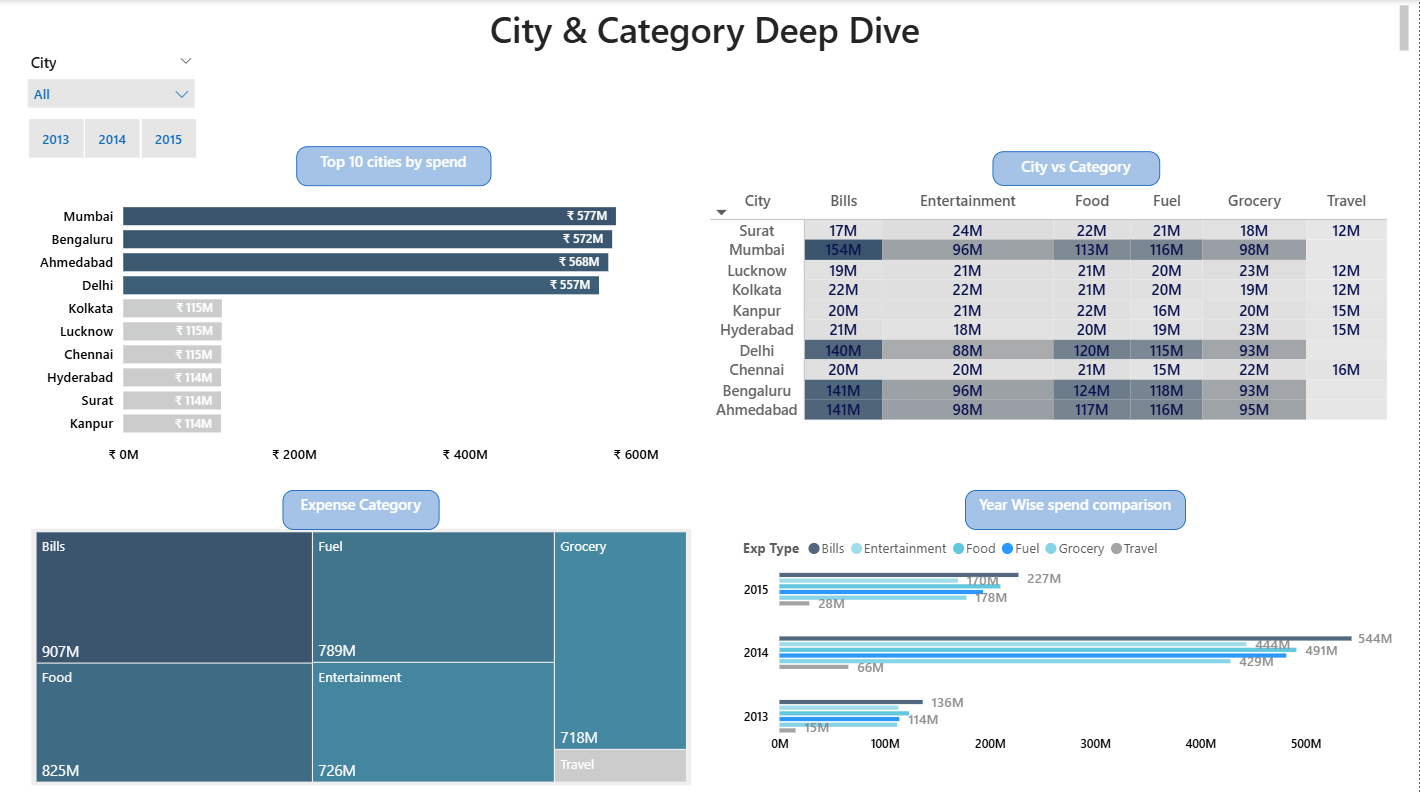

What the dashboard file says about the page in this screenshot:
{"tool":"powerbi","page":{"name":"City & Category deep dive","canvas":[1280,720],"ordinal":1},"visuals":[{"type":"textbox","box":[4.7,0,1270.5,51.4],"z":0},{"type":"barChart","fields":{"Category":["clean_creditcard.City"],"Y":["Sum(clean_creditcard.Amount)"]},"box":[28.8,166,594.2,262.1],"z":1000},{"type":"pivotTable","fields":{"Rows":["clean_creditcard.City"],"Columns":["clean_creditcard.Exp Type"],"Values":["Sum(clean_creditcard.Amount)"]},"box":[635.7,167.9,622.2,222],"z":2000},{"type":"treemap","fields":{"Group":["clean_creditcard.Exp Type"],"Values":["Sum(clean_creditcard.Amount)"]},"box":[28.1,476.9,595.5,231.1],"z":3000},{"type":"clusteredBarChart","fields":{"Series":["clean_creditcard.Exp Type"],"Y":["Sum(clean_creditcard.Amount)"],"Category":["clean_creditcard.Date.Variation.Date Hierarchy.Year"]},"box":[665.2,476.9,610.2,209.1],"z":4000},{"type":"slicer","fields":{"Values":["clean_creditcard.Date.Variation.Date Hierarchy.Year"]},"box":[0,100.3,200.5,48.9],"z":5000},{"type":"slicer","fields":{"Values":["clean_creditcard.City"]},"box":[14.7,41.6,171.2,58.7],"z":6000},{"type":"textbox","box":[267.6,131.7,175.6,35.7],"z":7000},{"type":"textbox","box":[894.7,135.8,150.9,31.6],"z":8000},{"type":"textbox","box":[255.2,441.9,141.3,35.7],"z":9000},{"type":"textbox","box":[870,441.9,199,35.7],"z":10000}]}

Visuals, with their boxes in screenshot pixels (x1, y1, x2, y2), scaled from the page's 1280x720 canvas onto the 1420x793 screenshot:
textbox: x1=5 y1=0 x2=1415 y2=57
barChart - clean_creditcard.City x Sum(clean_creditcard.Amount): x1=32 y1=183 x2=691 y2=472
pivotTable - clean_creditcard.City x clean_creditcard.Exp Type: x1=705 y1=185 x2=1395 y2=429
treemap - clean_creditcard.Exp Type x Sum(clean_creditcard.Amount): x1=31 y1=525 x2=692 y2=780
clusteredBarChart - clean_creditcard.Exp Type x Sum(clean_creditcard.Amount): x1=738 y1=525 x2=1415 y2=756
slicer - clean_creditcard.Date.Variation.Date Hierarchy.Year: x1=0 y1=110 x2=222 y2=164
slicer - clean_creditcard.City: x1=16 y1=46 x2=206 y2=110
textbox: x1=297 y1=145 x2=492 y2=184
textbox: x1=993 y1=150 x2=1160 y2=184
textbox: x1=283 y1=487 x2=440 y2=526
textbox: x1=965 y1=487 x2=1186 y2=526
